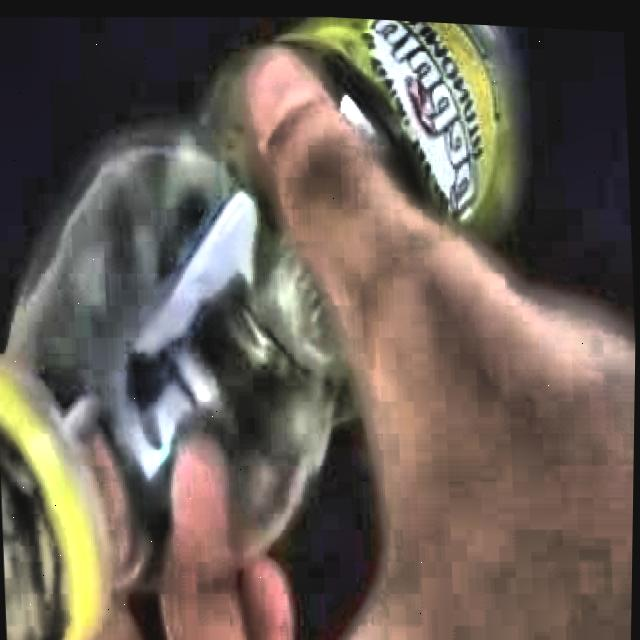plastic: (0, 67, 356, 640), (288, 13, 518, 229)
